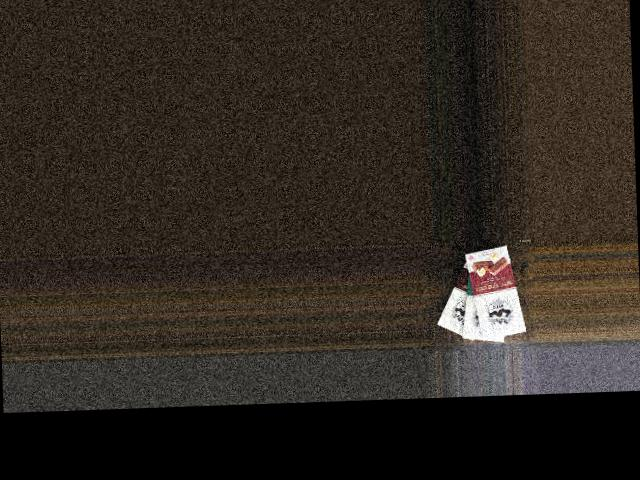chocolate: (433, 246, 497, 344)
